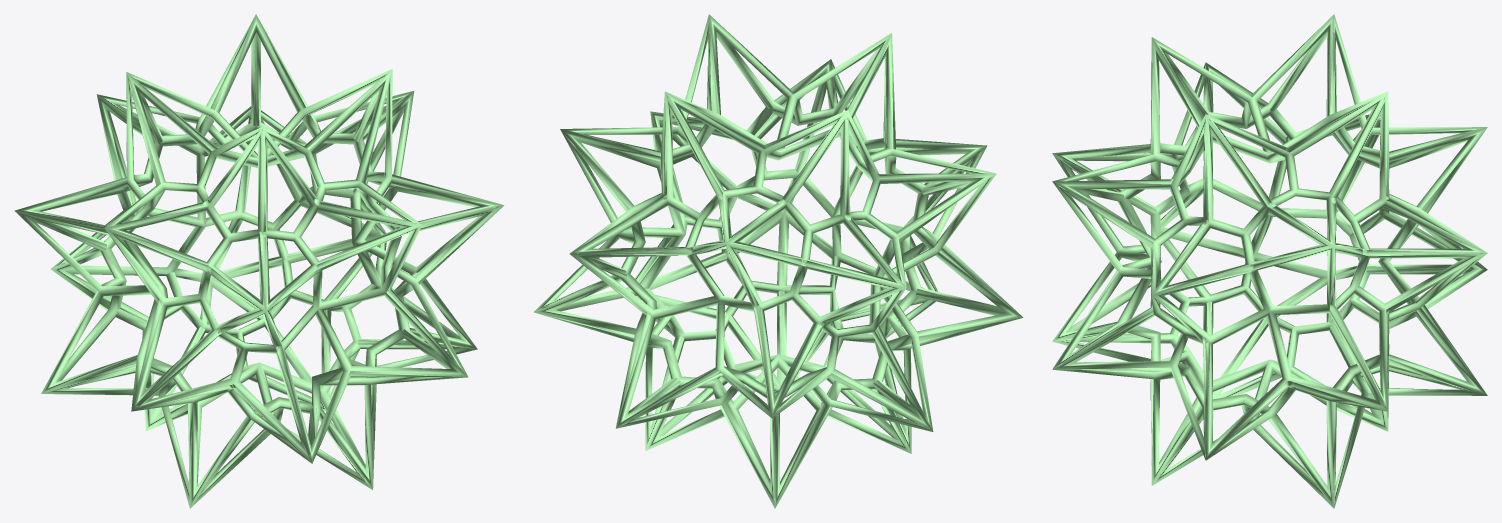
The model's file is SnubCubeK2.glb.
3 views of the same model, side by side, from view 1: azimuth 30°, elevation 25°; view 2: azimuth 150°, elevation 25°; view 3: azimuth 270°, elevation 25° (orthographic).
Visible parts, largest first — view 1: Snub_Cube; view 2: Snub_Cube; view 3: Snub_Cube.
Boxes of the visible parts, x1,y1,x2,y2 form: Snub_Cube: [14, 14, 504, 508]; Snub_Cube: [533, 14, 1023, 508]; Snub_Cube: [1052, 14, 1487, 508].
Bounding box in the file's own units: 2.34 × 2.34 × 2.34.
